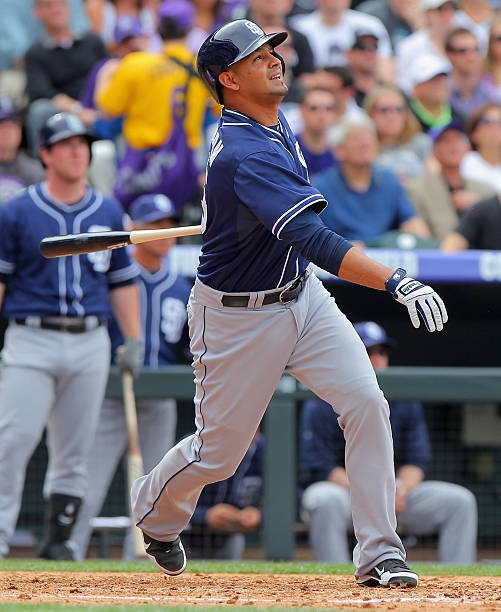bita: (39, 212, 200, 256)
